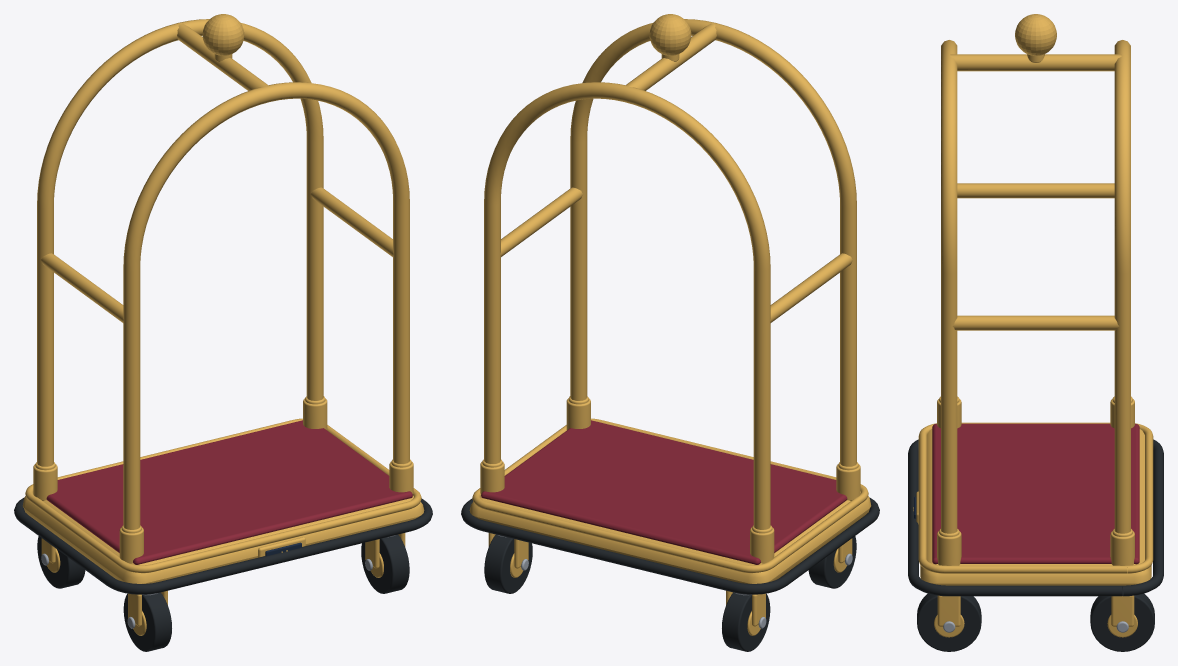
The model's file is HotelTogether-Gold-Trolley.glb.
3 views of the same model, side by side, from view 1: azimuth 30°, elevation 25°; view 2: azimuth 150°, elevation 25°; view 3: azimuth 270°, elevation 25° (orthographic).
Visible parts, largest first — view 1: Trolley_Body, Trolley_Wheel_03, Trolley_Wheel_01, Trolley_Wheel_02; view 2: Trolley_Body, Trolley_Wheel_04, Trolley_Wheel_02, Trolley_Wheel_01; view 3: Trolley_Body, Trolley_Wheel_03, Trolley_Wheel_04.
Boxes of the visible parts, x1,y1,x2,y2 form: Trolley_Body: [14, 14, 432, 626]; Trolley_Wheel_03: [361, 534, 409, 593]; Trolley_Wheel_01: [123, 592, 171, 651]; Trolley_Wheel_02: [37, 536, 85, 588]; Trolley_Body: [461, 14, 879, 626]; Trolley_Wheel_04: [484, 534, 532, 593]; Trolley_Wheel_02: [722, 592, 770, 651]; Trolley_Wheel_01: [808, 536, 856, 588]; Trolley_Body: [908, 14, 1163, 626]; Trolley_Wheel_03: [917, 593, 981, 651]; Trolley_Wheel_04: [1090, 593, 1154, 651].
Size of the model in its own units: 1.1 by 1.86 by 0.752.
